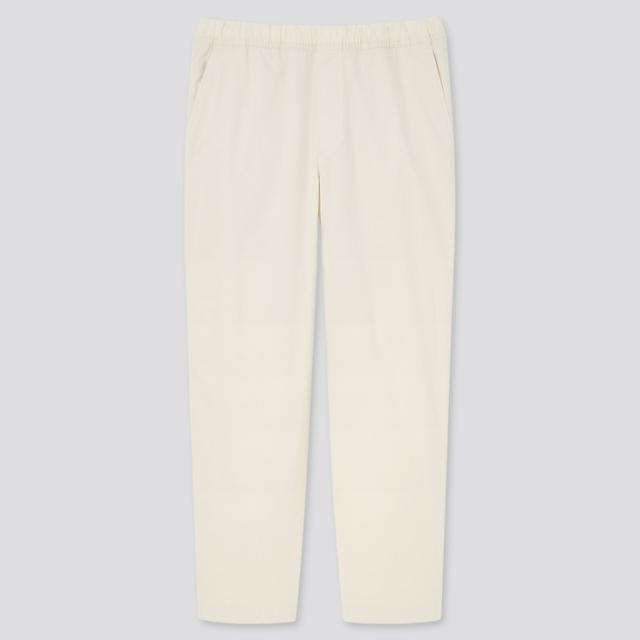long-pants: (184, 16, 458, 631)
